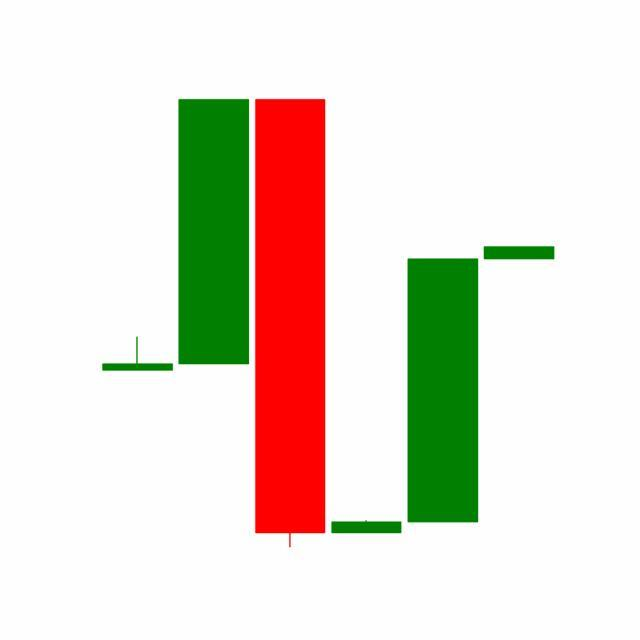Marubozu: (404, 256, 482, 525)
